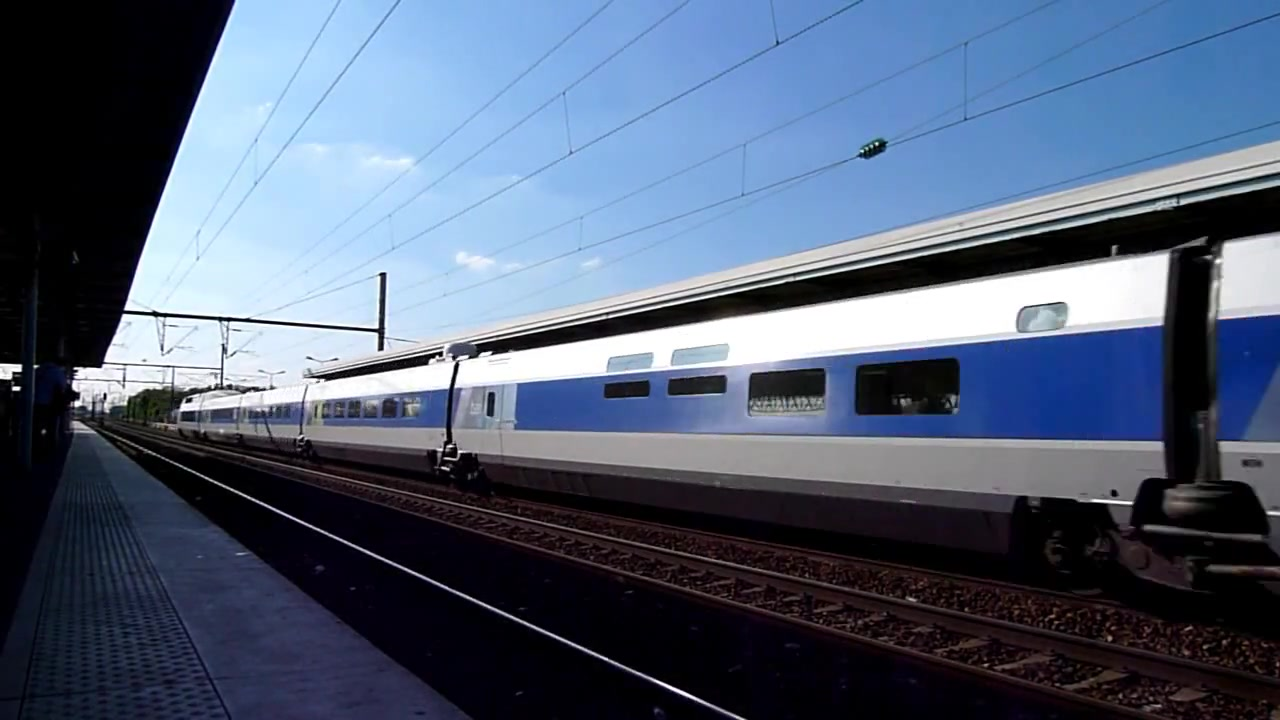train: (172, 137, 1280, 604)
